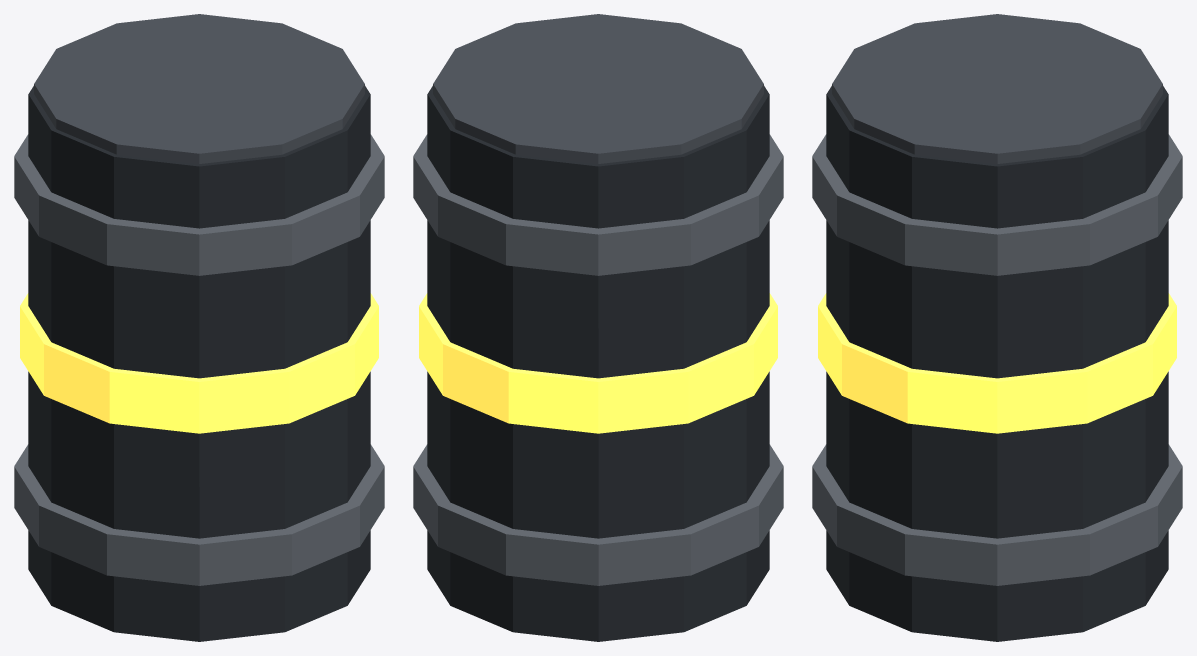
The model's file is Modle_Prop_Barrel.fbx.
The picture shows the model from 3 angles, left to right: view 1: azimuth 30°, elevation 25°; view 2: azimuth 150°, elevation 25°; view 3: azimuth 270°, elevation 25°; orthographic projection.
Visible parts, largest first — view 1: Modle_Prop_Barrel; view 2: Modle_Prop_Barrel; view 3: Modle_Prop_Barrel.
Boxes of the visible parts, x1,y1,x2,y2 form: Modle_Prop_Barrel: [14, 14, 384, 641]; Modle_Prop_Barrel: [413, 14, 783, 641]; Modle_Prop_Barrel: [812, 14, 1182, 641].
Size of the model in its own units: 0.65 by 0.94 by 0.65.
